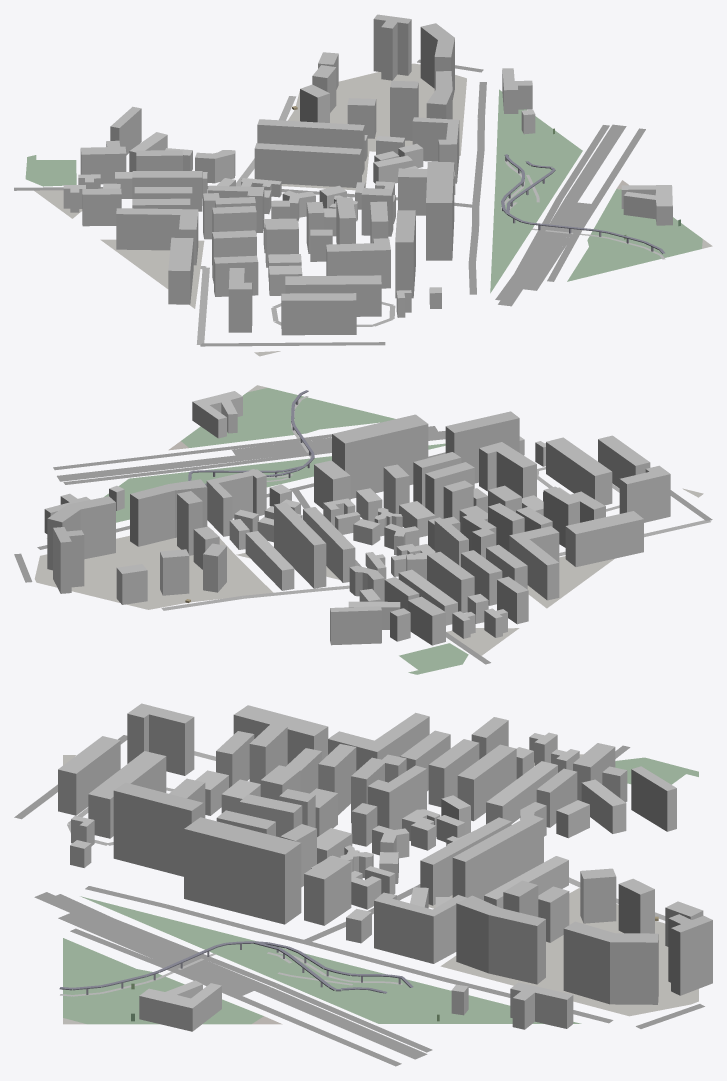
3 renders of one model, top to bottom at view 1: azimuth 30°, elevation 25°; view 2: azimuth 150°, elevation 25°; view 3: azimuth 270°, elevation 25°, orthographic. The views are drawn at different scales.
Bounding box in the file's own units: 616 × 62.07 × 549.
